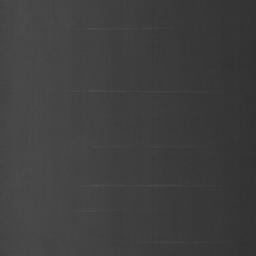Waist folding: (87, 88, 194, 94), (90, 183, 199, 188), (88, 26, 159, 31), (93, 145, 157, 149), (151, 240, 197, 245)
